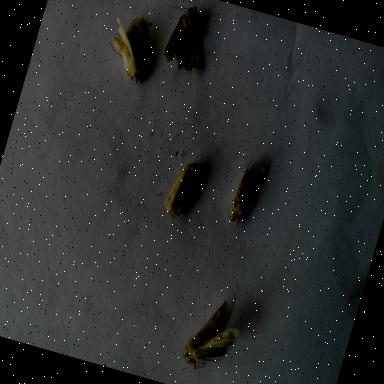abw: (174, 288, 254, 384), (92, 5, 165, 93), (152, 0, 222, 83), (154, 148, 212, 234), (220, 151, 272, 231)
